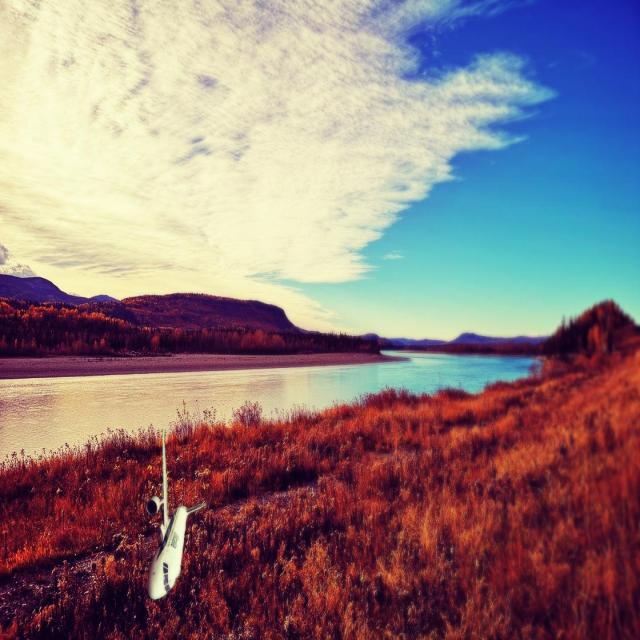airplane: (145, 432, 207, 600)
